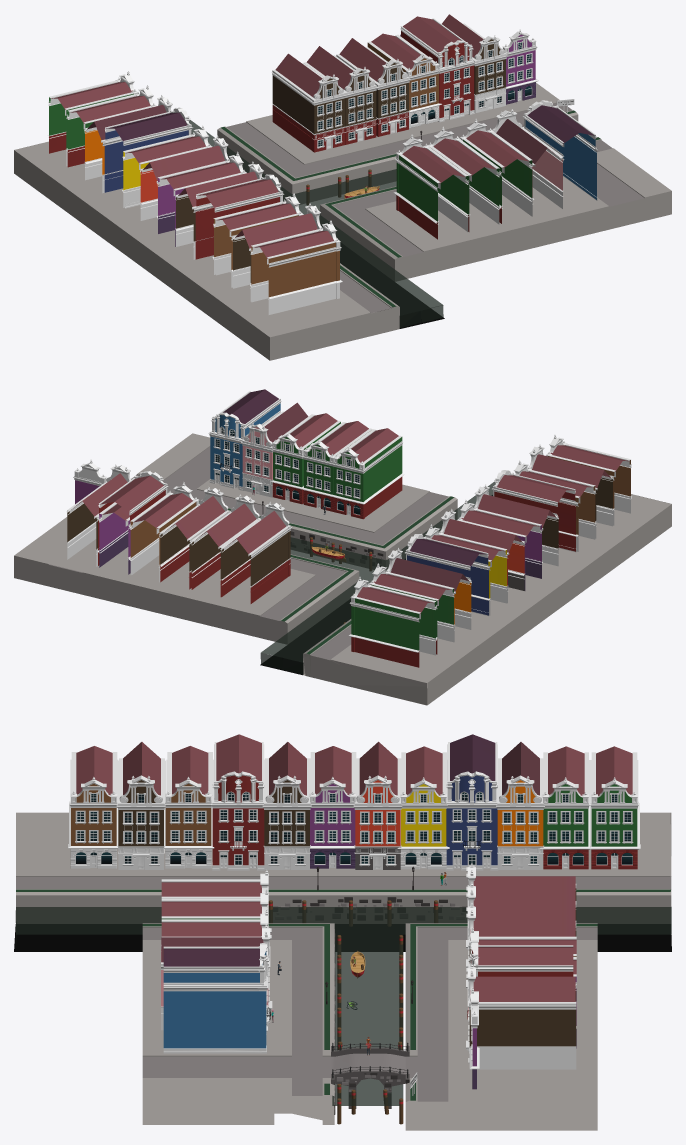
Rendered from amsterdam-FINAL.glb.
3 renders of one model, top to bottom at view 1: azimuth 30°, elevation 25°; view 2: azimuth 150°, elevation 25°; view 3: azimuth 270°, elevation 25°, orthographic. The views are drawn at different scales.
Visible parts, largest first — view 1: Ground, Parts_geo_25_New_color_palette_mat_0.001, Water_geo, Parts_geo_10_New_color_palette_mat_0.002, Parts_geo_14_New_color_palette_mat_0.005, Parts_geo_28_New_color_palette_mat_0.002, Parts_geo_14_New_color_palette_mat_0.004, Parts_geo_23_New_color_palette_mat_0.004, Parts_geo_10_New_color_palette_mat_0.009, Parts_geo_10_New_color_palette_mat_0.001, Parts_geo_22_New_color_palette_mat_0.001, Parts_geo_01_New_color_palette_mat_0.005 (+20 smaller); view 2: Ground, Parts_geo_10_New_color_palette_mat_0.003, Water_geo, Parts_geo_28_New_color_palette_mat_0.002, Parts_geo_10_New_color_palette_mat_0.002, Parts_geo_23_New_color_palette_mat_0.004, Parts_geo_14_New_color_palette_mat_0.004, Parts_geo_25_New_color_palette_mat_0.005, Parts_geo_28_New_color_palette_mat_0.003, Parts_geo_28_New_color_palette_mat_0.001, Parts_geo_13, Parts_geo_25_New_color_palette_mat_0.001 (+20 smaller); view 3: Ground, Water_geo, Parts_geo_14_New_color_palette_mat_0.005, Parts_geo_19_New_color_palette_mat_0.005, Parts_geo_22_New_color_palette_mat_0.003, Parts_geo_13_New_color_palette_mat_0.003, Parts_geo_02_New_color_palette_mat_0.003, Parts_geo_17_New_color_palette_mat_0.003, Parts_geo_20_New_color_palette_mat_0.002, Parts_geo_20_New_color_palette_mat_0.003, Parts_geo_11_New_color_palette_mat_0.004, Parts_geo_26_New_color_palette_mat_0.003 (+27 smaller).
Boxes of the visible parts, box(x1,y1,x2,y2) form: Ground: box(14, 83, 671, 360); Parts_geo_25_New_color_palette_mat_0.001: box(250, 229, 336, 314); Water_geo: box(189, 120, 443, 327); Parts_geo_10_New_color_palette_mat_0.002: box(397, 146, 469, 239); Parts_geo_14_New_color_palette_mat_0.005: box(525, 105, 597, 200); Parts_geo_28_New_color_palette_mat_0.002: box(272, 53, 322, 150); Parts_geo_14_New_color_palette_mat_0.004: box(104, 112, 188, 208); Parts_geo_23_New_color_palette_mat_0.004: box(195, 178, 279, 275); Parts_geo_10_New_color_palette_mat_0.009: box(463, 130, 534, 223); Parts_geo_10_New_color_palette_mat_0.001: box(430, 138, 501, 231); Parts_geo_22_New_color_palette_mat_0.001: box(436, 40, 474, 122); Parts_geo_01_New_color_palette_mat_0.005: box(496, 119, 564, 216); Ground: box(14, 433, 671, 705); Parts_geo_10_New_color_palette_mat_0.003: box(354, 585, 437, 667); Water_geo: box(260, 481, 495, 674); Parts_geo_28_New_color_palette_mat_0.002: box(220, 511, 289, 603); Parts_geo_10_New_color_palette_mat_0.002: box(337, 428, 404, 517); Parts_geo_23_New_color_palette_mat_0.004: box(494, 474, 576, 552); Parts_geo_14_New_color_palette_mat_0.004: box(406, 538, 488, 616); Parts_geo_25_New_color_palette_mat_0.005: box(128, 493, 196, 582); Parts_geo_28_New_color_palette_mat_0.003: box(159, 496, 227, 589); Parts_geo_28_New_color_palette_mat_0.001: box(190, 503, 258, 596); Parts_geo_13: box(208, 412, 246, 490); Parts_geo_25_New_color_palette_mat_0.001: box(548, 443, 632, 525); Ground: box(14, 812, 671, 1130); Water_geo: box(16, 907, 671, 1105); Parts_geo_14_New_color_palette_mat_0.005: box(163, 946, 261, 1053); Parts_geo_19_New_color_palette_mat_0.005: box(470, 976, 576, 1069); Parts_geo_22_New_color_palette_mat_0.003: box(211, 771, 264, 870); Parts_geo_13_New_color_palette_mat_0.003: box(445, 771, 498, 870); Parts_geo_02_New_color_palette_mat_0.003: box(496, 775, 544, 869); Parts_geo_17_New_color_palette_mat_0.003: box(353, 775, 402, 869); Parts_geo_20_New_color_palette_mat_0.002: box(116, 775, 165, 869); Parts_geo_20_New_color_palette_mat_0.003: box(262, 775, 311, 869); Parts_geo_11_New_color_palette_mat_0.004: box(589, 777, 640, 869); Parts_geo_26_New_color_palette_mat_0.003: box(164, 777, 214, 868).
Bounding box in the file's own units: 27.24 × 5.57 × 26.31.
Materials: 23 (17 with a texture image).
